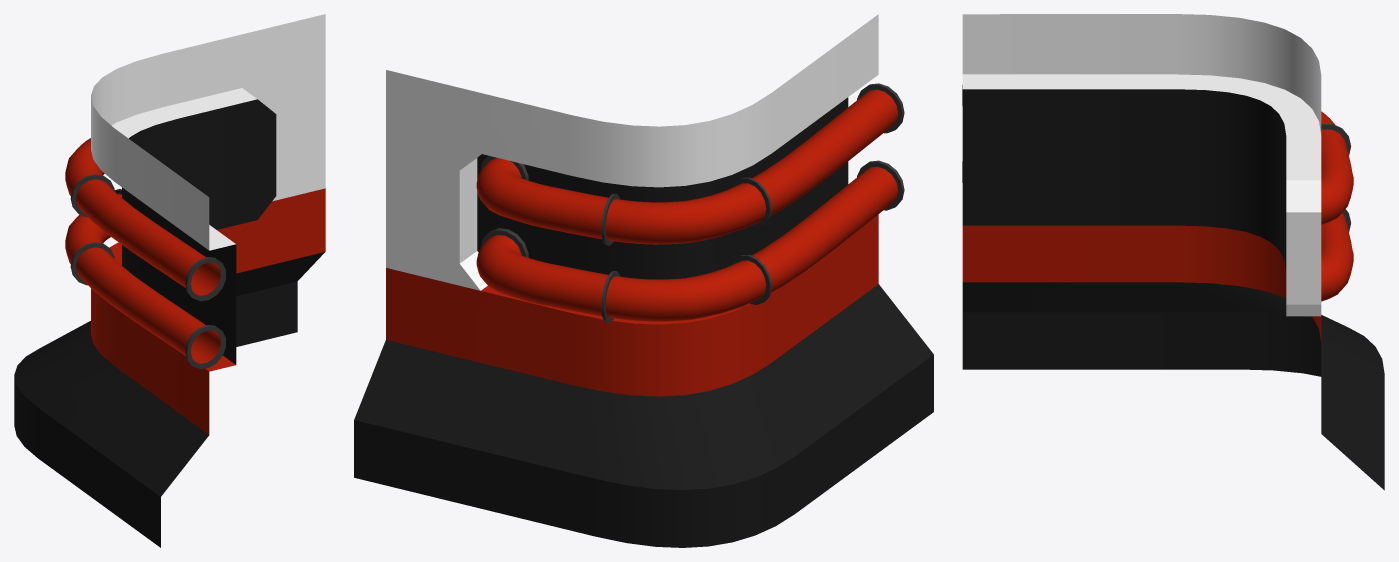
File: S_assete_basement_wall_soft_outside_corner_3.fbx
3 renders of one model, left to right at view 1: azimuth 30°, elevation 25°; view 2: azimuth 150°, elevation 25°; view 3: azimuth 270°, elevation 25°, orthographic. The views are drawn at different scales.
Parts seen in each view (by area): view 1: basement_wall_soft_outside_corner_3; view 2: basement_wall_soft_outside_corner_3; view 3: basement_wall_soft_outside_corner_3.
Part boxes in pixels (box(x1,y1,x2,y2)): basement_wall_soft_outside_corner_3: box(14, 14, 325, 547); basement_wall_soft_outside_corner_3: box(354, 14, 933, 547); basement_wall_soft_outside_corner_3: box(962, 14, 1384, 490).
Bounding box in the file's own units: 200 × 200 × 200.
